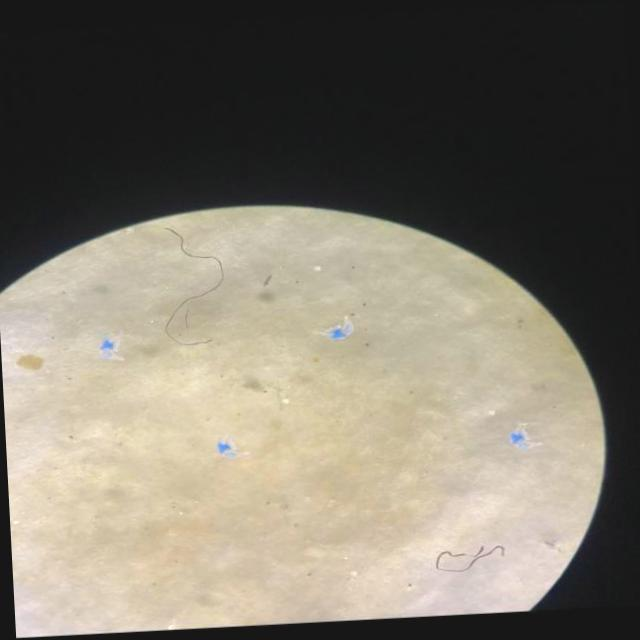fiber: (165, 227, 225, 343), (436, 545, 507, 572)
film: (330, 319, 354, 338), (104, 337, 119, 358), (509, 438, 536, 448), (219, 452, 240, 458)
fragment: (18, 354, 44, 371)
pellet: (350, 570, 358, 577), (283, 397, 289, 404), (488, 410, 495, 415), (315, 266, 321, 271)
